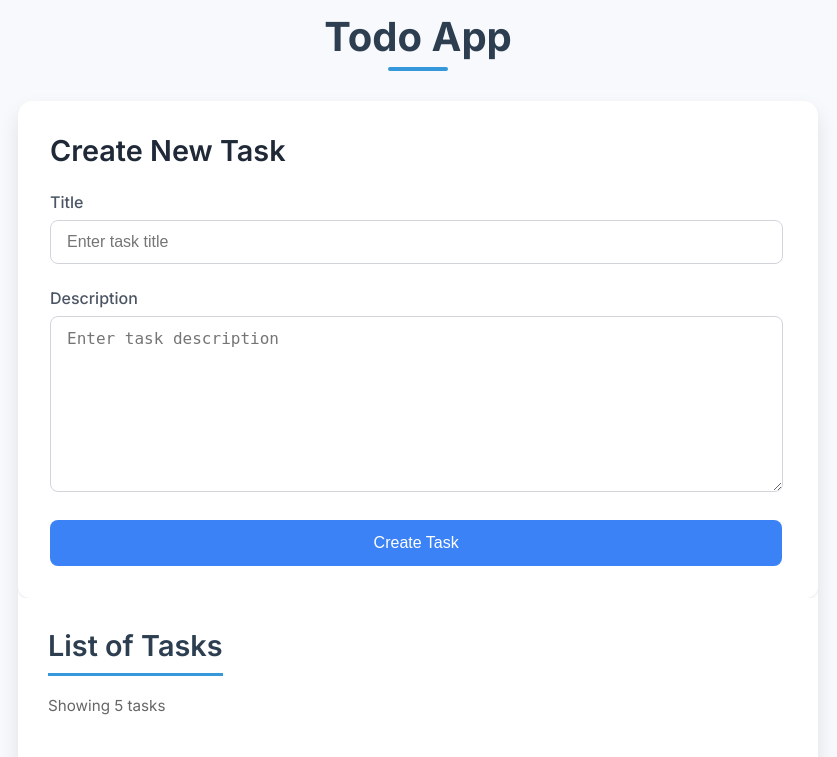
Test: App Component › handles task creation and updates state correctly
The width and height of the screenshot is (837, 757).
In the field with placeholder "Enter task title": (417, 242) [50,220,783,264], type "New Task"
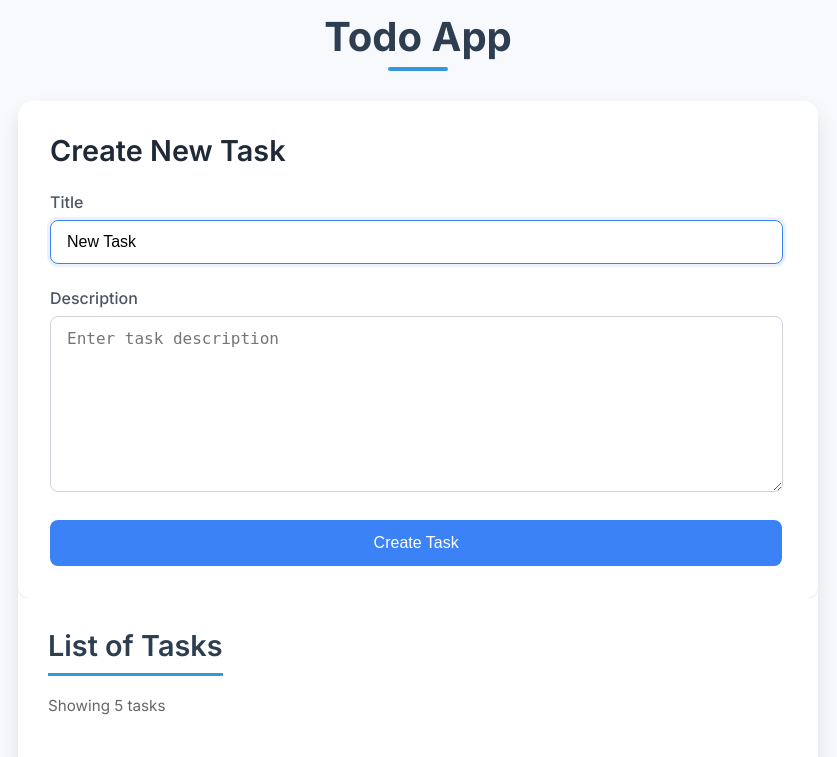
In the text box with placeholder "Enter task description": (417, 404) [50,316,783,492], type "New Description"
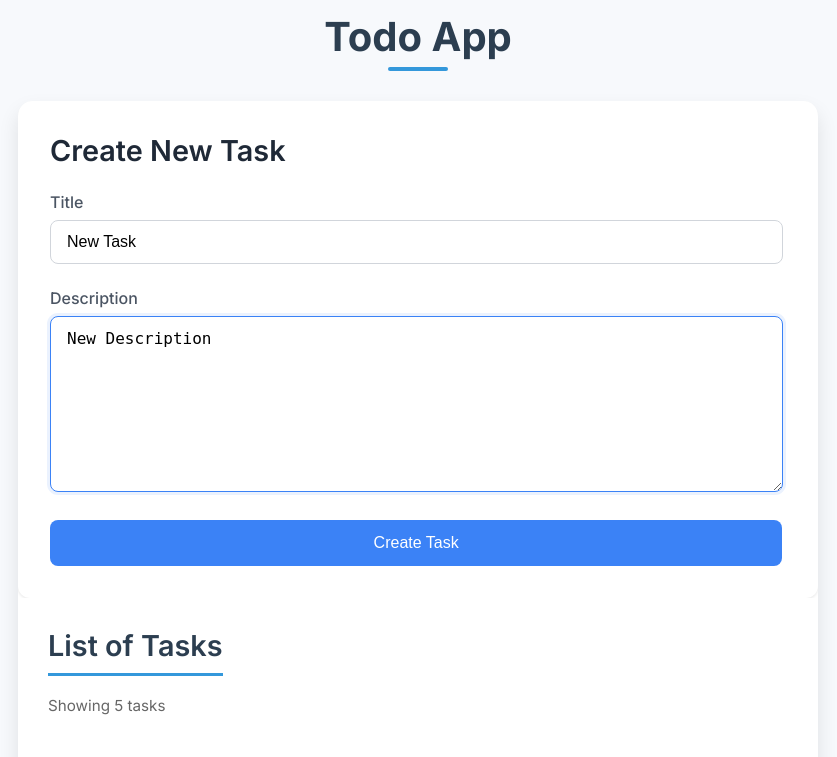
Click the button "Create Task": (416, 543) [50,520,782,566]
(page scrolled)
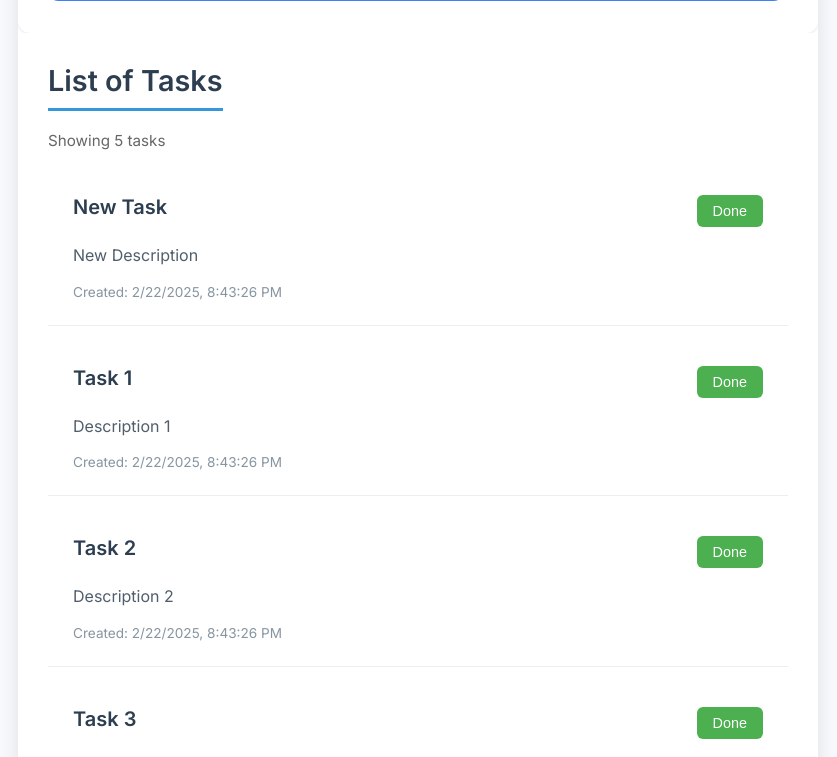
Check: the heading "Task 1" is shown, box [73,366,132,390]
Check: the heading "New Task" is shown, box [73,195,167,219]
